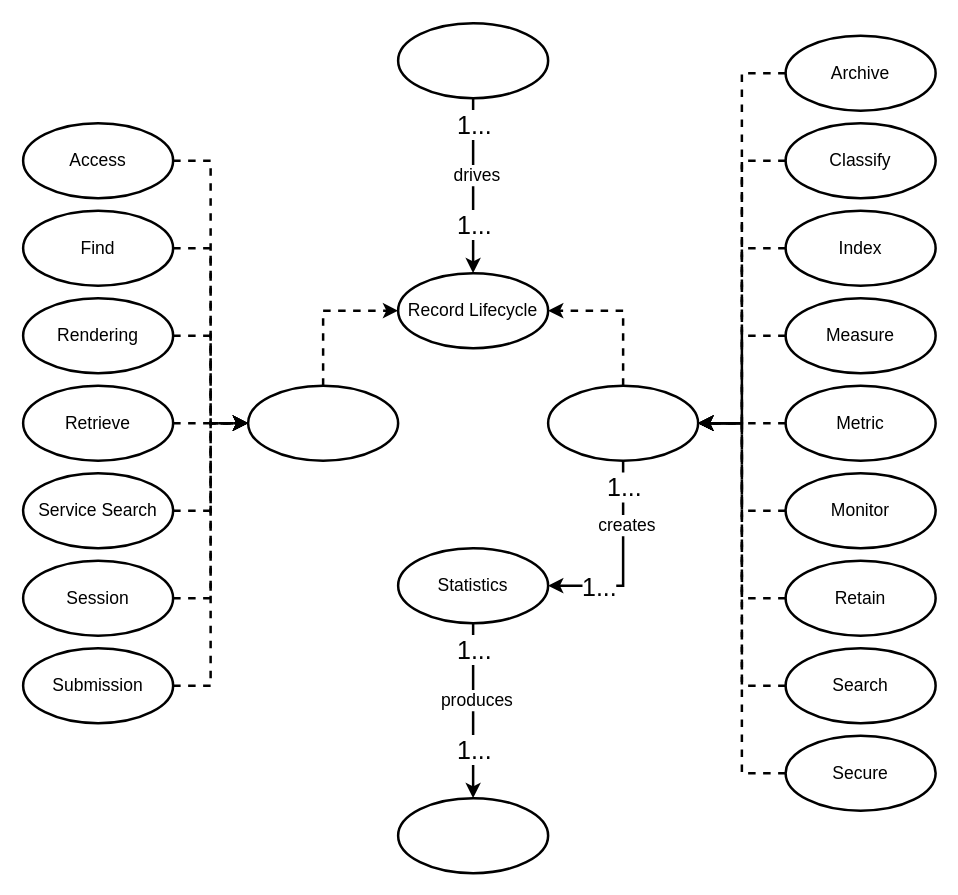
This 958x895 diagram has some shape labels left out. The shapes that lost their labels are listed below. From the top down, each one's box as (x1, y1, x2, y2) in pixels, then its label:
(396, 21, 549, 99): Data
(246, 384, 399, 461): Service
(546, 384, 699, 461): Process
(396, 796, 549, 874): Reporting
